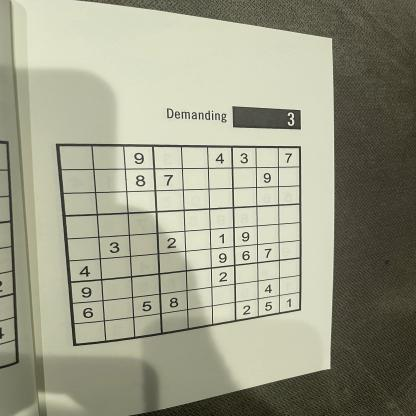sudoku: (50, 140, 308, 350)
